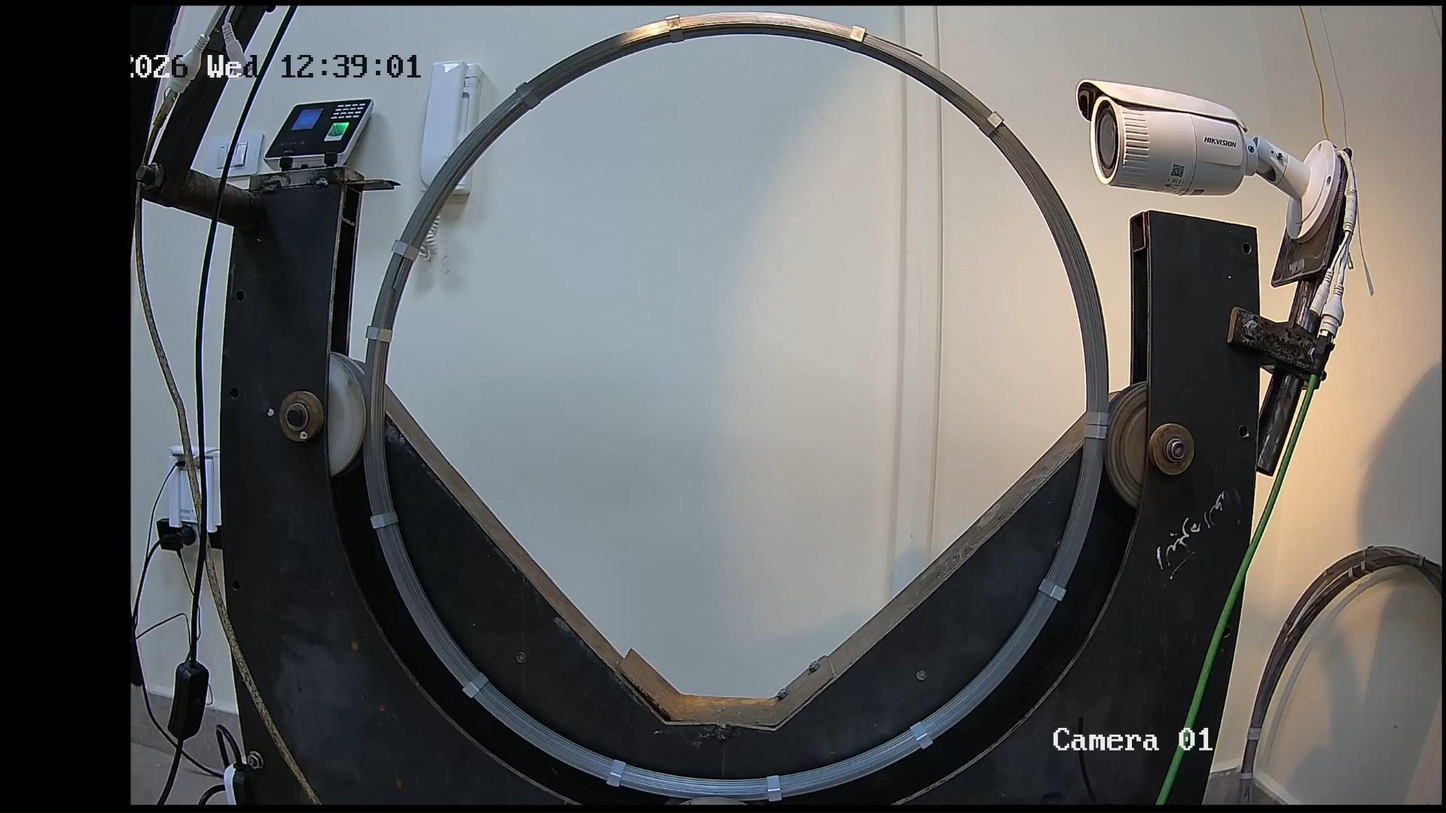Clamp: (1039, 578, 1065, 601), (517, 83, 540, 108), (910, 722, 931, 748), (392, 240, 418, 259), (607, 760, 626, 786), (983, 111, 1002, 137), (463, 676, 485, 697), (846, 26, 865, 50), (370, 512, 397, 528), (665, 15, 681, 41), (366, 326, 390, 340), (767, 776, 779, 801), (1085, 412, 1108, 425), (1084, 426, 1107, 437)
